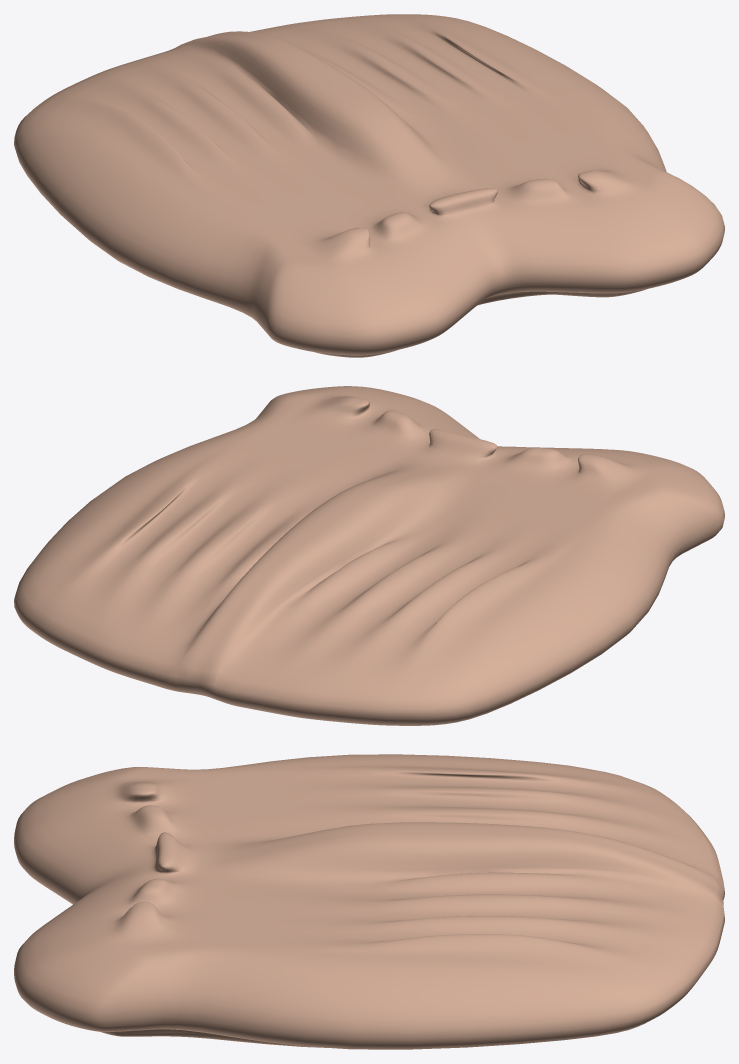
Rendered from Muschel.fbx.
3 views of the same model, one above another, from view 1: azimuth 30°, elevation 25°; view 2: azimuth 150°, elevation 25°; view 3: azimuth 270°, elevation 25° (orthographic). The views are drawn at different scales.
Parts seen in each view (by area): view 1: Muschel; view 2: Muschel; view 3: Muschel.
Boxes of the visible parts, x1,y1,x2,y2 form: Muschel: (14, 14, 724, 357); Muschel: (14, 386, 724, 725); Muschel: (14, 754, 724, 1049).
Size of the model in its own units: 215 by 46.49 by 243.
